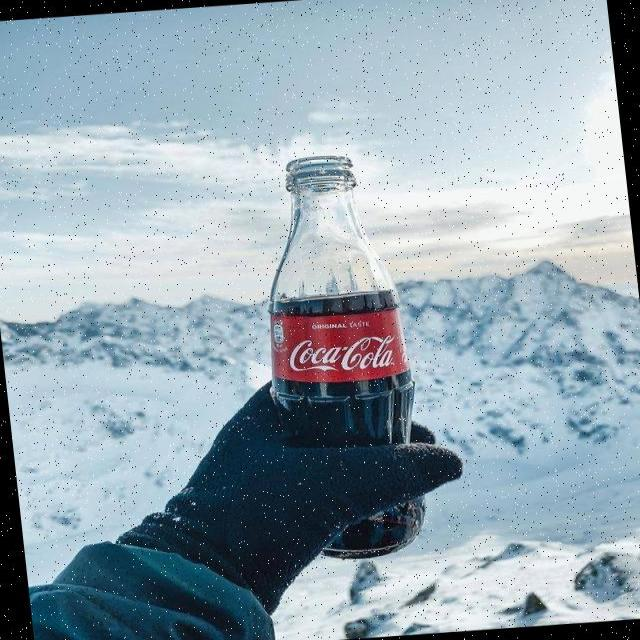coca-cola: (246, 150, 434, 566)
